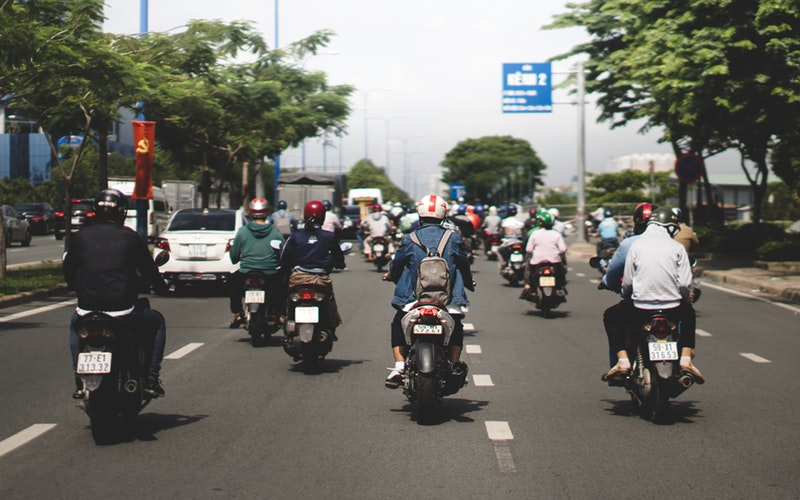helmet: (93, 189, 133, 220), (416, 191, 456, 220), (646, 204, 685, 232), (245, 195, 277, 218), (300, 196, 328, 218)
